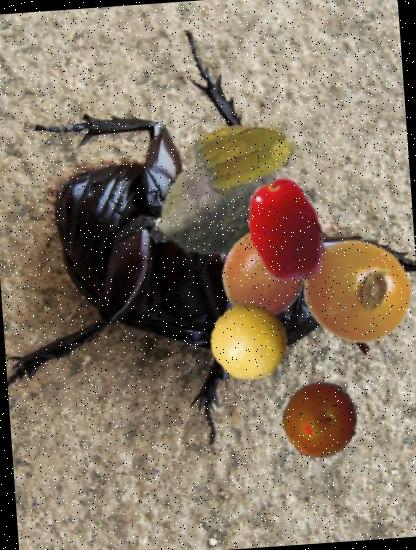Beetroot: (141, 132, 291, 282)
Grapefruit: (208, 299, 294, 386)
Physalis: (303, 235, 416, 348), (189, 93, 302, 206)
Tangelo: (214, 219, 316, 321), (279, 378, 362, 461)
Tomato: (228, 174, 342, 287)
